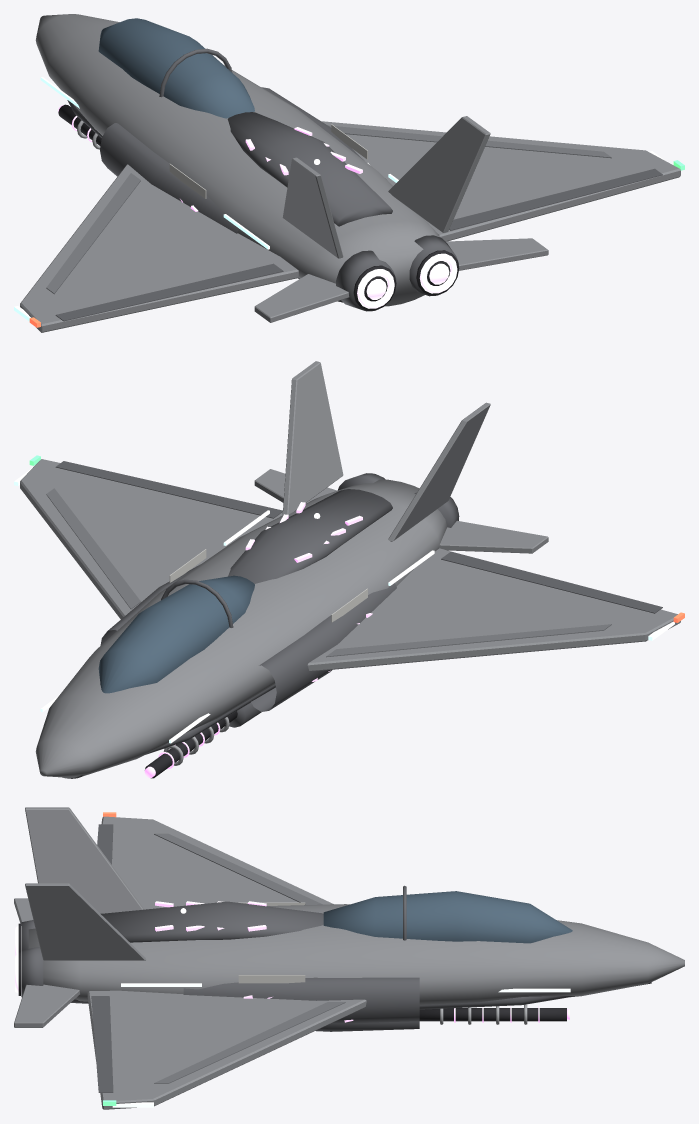
The model's file is jestrab.glb.
3 views of the same model, one above another, from view 1: azimuth 30°, elevation 25°; view 2: azimuth 150°, elevation 25°; view 3: azimuth 270°, elevation 25° (orthographic). The views are drawn at different scales.
Parts seen in each view (by area): view 1: Jestrab; view 2: Jestrab; view 3: Jestrab.
Part boxes in pixels (x1,y1,x2,y2): Jestrab: (14,14,684,332); Jestrab: (14,361,684,778); Jestrab: (14,807,684,1109).
Size of the model in its own units: 9.3 by 2.46 by 9.1.
